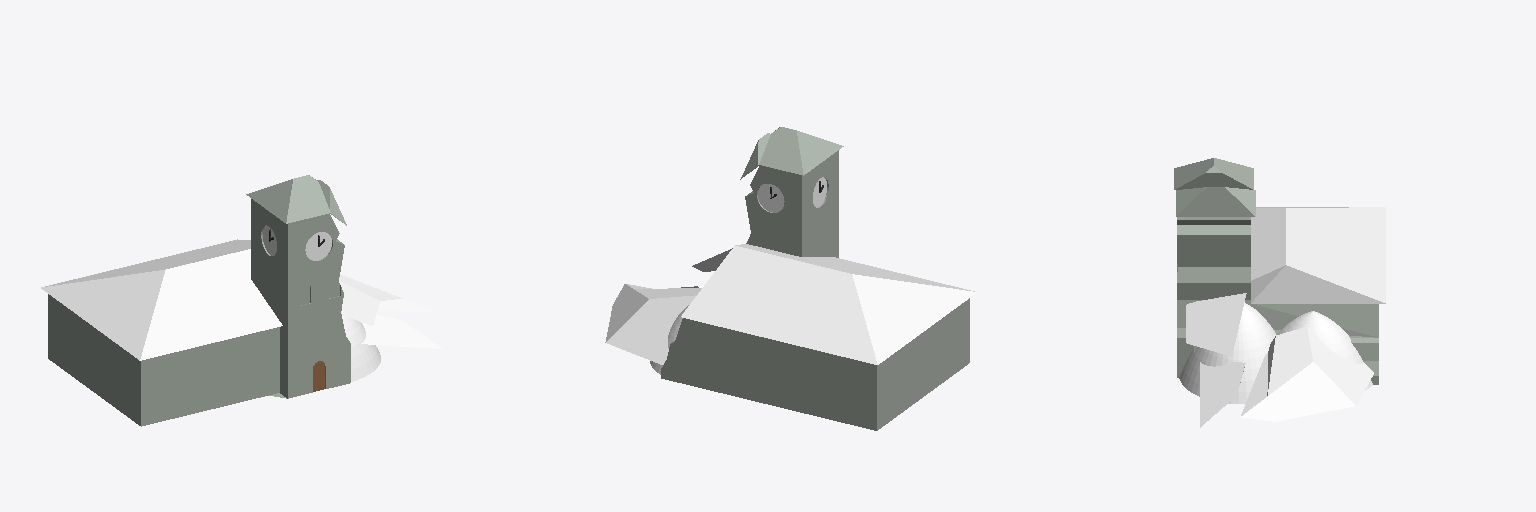
3 renders of one model, left to right at view 1: azimuth 30°, elevation 25°; view 2: azimuth 150°, elevation 25°; view 3: azimuth 270°, elevation 25°, orthographic.
Visible parts, largest first — view 1: Mesh4 Group2 Group1 Model, Mesh12 Group13 Group10 Model, Mesh6 Group6 Group1 Model, Mesh10 Group11 Group10 Model, Mesh7 Group8 Model, Mesh9 Group11 Group10 Model, Mesh11 Group12 Group10 Model; view 2: Mesh4 Group2 Group1 Model, Mesh12 Group13 Group10 Model, Mesh11 Group12 Group10 Model, Mesh6 Group6 Group1 Model; view 3: Mesh12 Group13 Group10 Model, Mesh4 Group2 Group1 Model, Mesh11 Group12 Group10 Model, Mesh7 Group8 Model, Mesh9 Group11 Group10 Model, Mesh5 Group7 Group6 Group1 Model, Mesh6 Group6 Group1 Model, Mesh10 Group11 Group10 Model, Mesh8 Group9 Model.
Part boxes in pixels (bbox=[...]): Mesh4 Group2 Group1 Model: bbox=[48, 199, 350, 426]; Mesh12 Group13 Group10 Model: bbox=[41, 239, 282, 360]; Mesh6 Group6 Group1 Model: bbox=[246, 175, 330, 223]; Mesh10 Group11 Group10 Model: bbox=[361, 315, 441, 348]; Mesh7 Group8 Model: bbox=[342, 315, 380, 381]; Mesh9 Group11 Group10 Model: bbox=[339, 281, 379, 325]; Mesh11 Group12 Group10 Model: bbox=[339, 275, 435, 311]; Mesh4 Group2 Group1 Model: bbox=[661, 150, 969, 430]; Mesh12 Group13 Group10 Model: bbox=[681, 244, 976, 364]; Mesh11 Group12 Group10 Model: bbox=[605, 284, 701, 364]; Mesh6 Group6 Group1 Model: bbox=[759, 127, 843, 175]; Mesh12 Group13 Group10 Model: bbox=[1251, 207, 1385, 303]; Mesh4 Group2 Group1 Model: bbox=[1177, 217, 1378, 384]; Mesh11 Group12 Group10 Model: bbox=[1241, 327, 1373, 421]; Mesh7 Group8 Model: bbox=[1179, 302, 1275, 403]; Mesh9 Group11 Group10 Model: bbox=[1186, 293, 1246, 356]; Mesh5 Group7 Group6 Group1 Model: bbox=[1176, 187, 1255, 216]; Mesh6 Group6 Group1 Model: bbox=[1174, 158, 1253, 189]; Mesh10 Group11 Group10 Model: bbox=[1200, 362, 1245, 427]; Mesh8 Group9 Model: bbox=[1277, 311, 1372, 390].
Bounding box in the file's own units: 23.51 × 13.84 × 13.26.
5 materials, 1 textured.